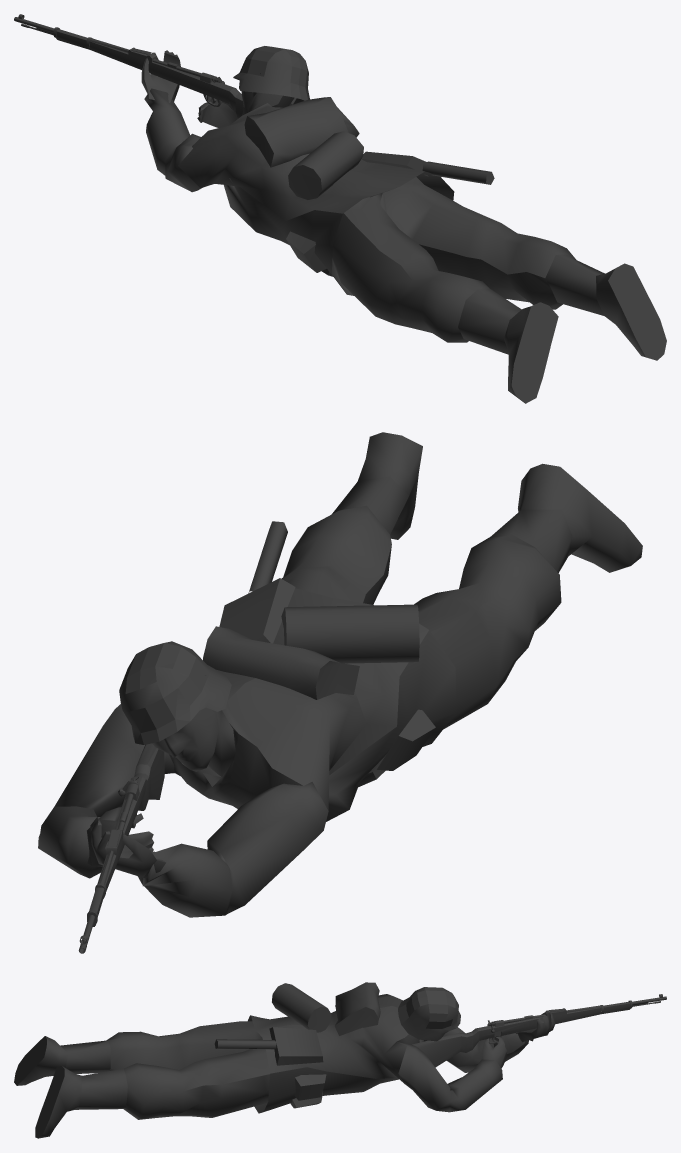
The model's file is de_fucile_prono.glb.
3 views of the same model, one above another, from view 1: azimuth 30°, elevation 25°; view 2: azimuth 150°, elevation 25°; view 3: azimuth 270°, elevation 25° (orthographic). The views are drawn at different scales.
Visible parts, largest first — view 1: SketchUp.010_ID70_2; view 2: SketchUp.010_ID70_2; view 3: SketchUp.010_ID70_2.
Boxes of the visible parts, box(x1,y1,x2,y2) form: SketchUp.010_ID70_2: box(14, 14, 666, 403); SketchUp.010_ID70_2: box(38, 432, 642, 953); SketchUp.010_ID70_2: box(14, 982, 666, 1138).
Bounding box in the file's own units: 0.2292 × 0.1494 × 0.7474.
Materials: 1 (1 with a texture image).
